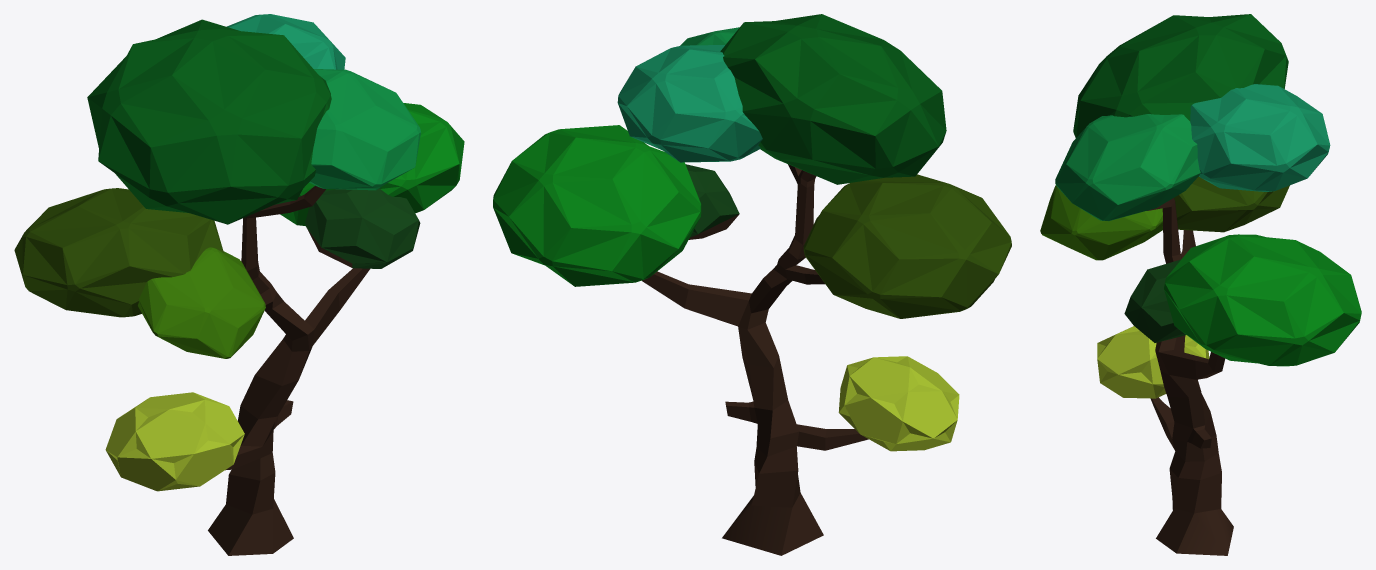
File: Tree_big.fbx
The picture shows the model from 3 angles, left to right: view 1: azimuth 30°, elevation 25°; view 2: azimuth 150°, elevation 25°; view 3: azimuth 270°, elevation 25°; orthographic projection. The views are drawn at different scales.
Parts seen in each view (by area): view 1: Object005, Object007, Box001, Object008, Object004, Object006, Object002, Object001, Object003; view 2: Object005, Object001, Object007, Box001, Object003, Object008, Object002; view 3: Object001, Object005, Box001, Object003, Object004, Object006, Object008, Object007, Object002.
Boxes of the visible parts, left/top/right/bottom form: Object005: left=87, top=19, right=331, bottom=224; Object007: left=14, top=188, right=223, bottom=317; Box001: left=208, top=185, right=369, bottom=555; Object008: left=105, top=392, right=244, bottom=491; Object004: left=309, top=69, right=420, bottom=190; Object006: left=138, top=247, right=265, bottom=358; Object002: left=305, top=188, right=420, bottom=268; Object001: left=280, top=103, right=464, bottom=226; Object003: left=226, top=14, right=345, bottom=69; Object005: left=720, top=14, right=946, bottom=184; Object001: left=493, top=125, right=701, bottom=286; Object007: left=803, top=174, right=1011, bottom=318; Box001: left=642, top=164, right=868, bottom=555; Object003: left=617, top=45, right=762, bottom=162; Object008: left=838, top=356, right=959, bottom=451; Object002: left=685, top=164, right=739, bottom=237; Object001: left=1164, top=234, right=1361, bottom=366; Object005: left=1073, top=14, right=1288, bottom=138; Box001: left=1147, top=198, right=1233, bottom=555; Object003: left=1190, top=84, right=1330, bottom=191; Object004: left=1055, top=114, right=1200, bottom=221; Object006: left=1040, top=185, right=1162, bottom=260; Object008: left=1097, top=326, right=1209, bottom=398; Object007: left=1162, top=176, right=1289, bottom=232; Object002: left=1124, top=259, right=1185, bottom=342.
Size of the model in its own units: 150 by 159 by 93.99.
